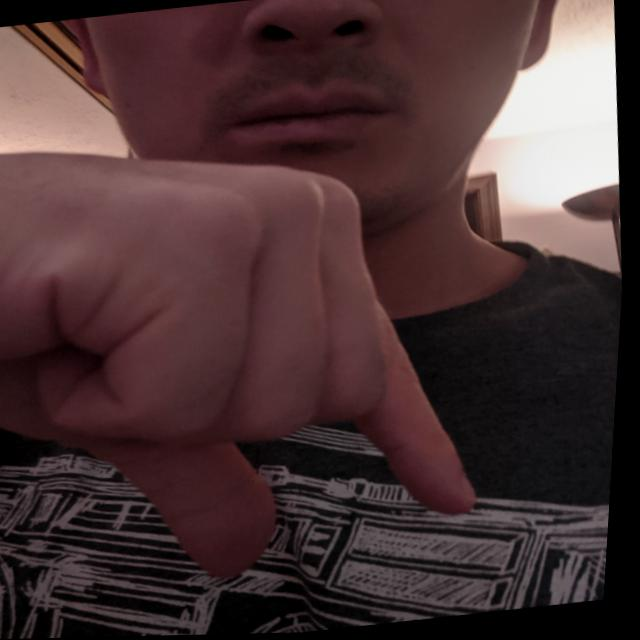Q: (0, 91, 519, 612)
